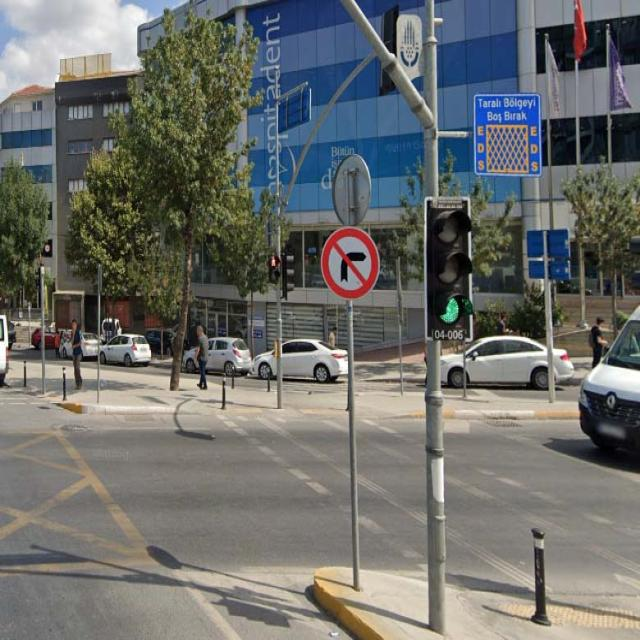sagadonulmez: (320, 228, 380, 298)
yesil: (424, 195, 472, 343)
